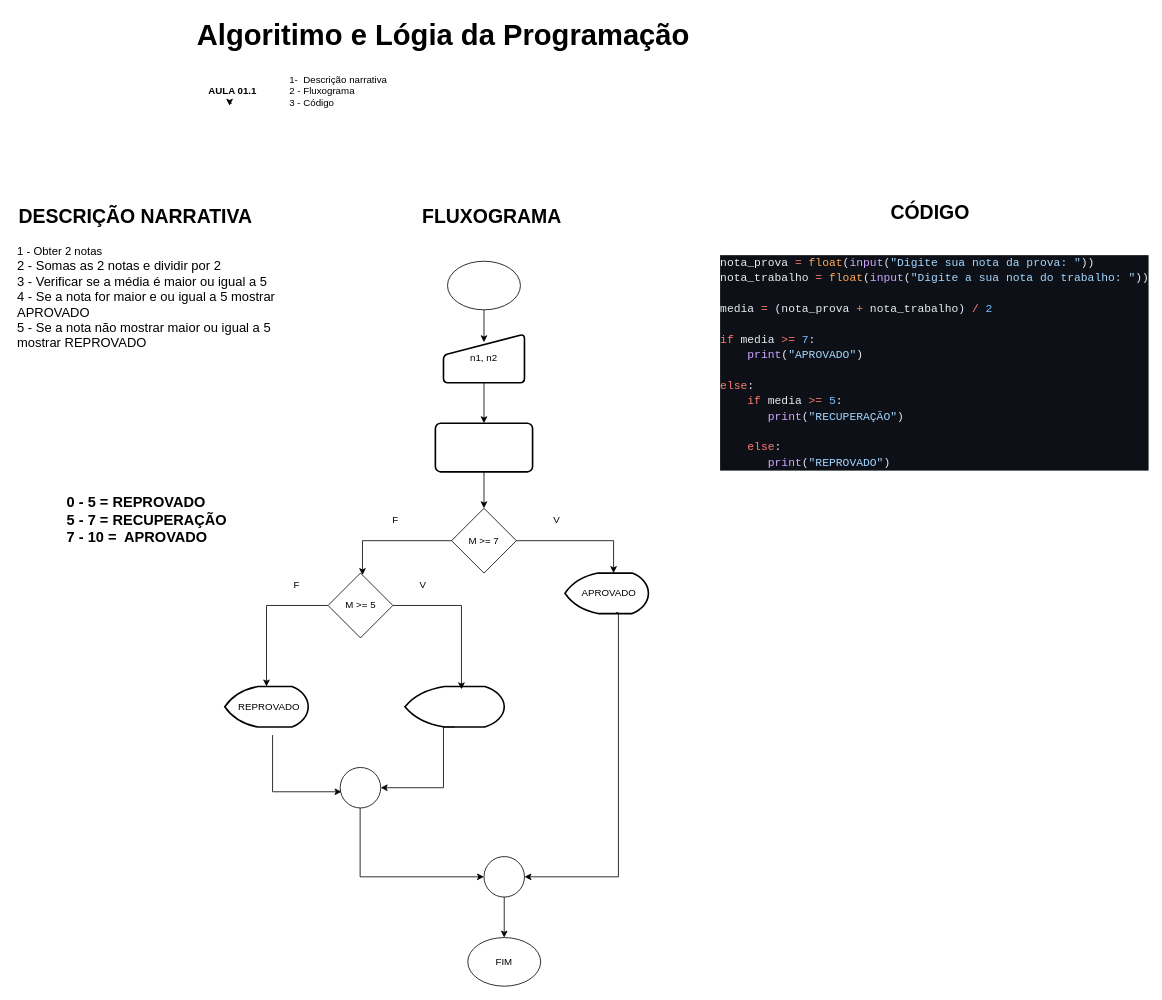
Image size: 1162x1000. Some labels were removed from this diagram. Each missing label, with the centre of its shape:
"INÍCIO" belongs at pixel 483 285.
"M = (n1 + n2)/ 2" belongs at pixel 483 447.
"RECUPERAÇÃO" belongs at pixel 454 706.
